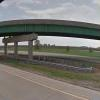Bridge: (5, 8, 94, 53)
